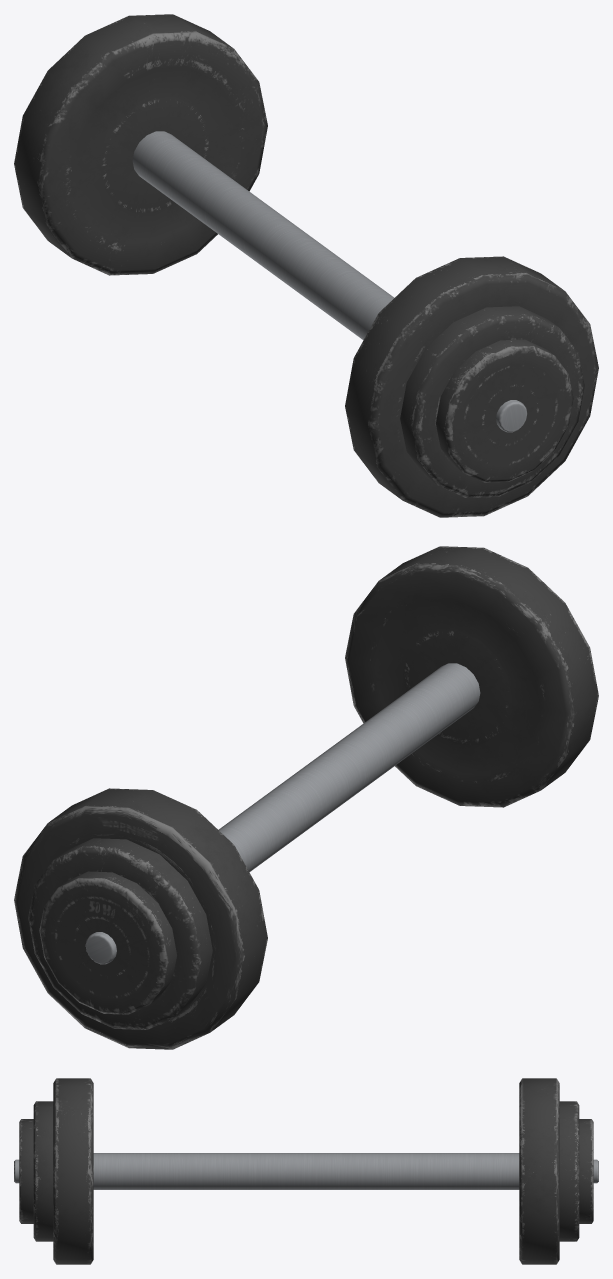
Rendered from weightlift-halter.fbx.
The picture shows the model from 3 angles, top to bottom: view 1: azimuth 30°, elevation 25°; view 2: azimuth 150°, elevation 25°; view 3: azimuth 270°, elevation 25°; orthographic projection. The views are drawn at different scales.
Visible parts, largest first — view 1: Halter_Ready; view 2: Halter_Ready; view 3: Halter_Ready.
Boxes of the visible parts, x1=… form: Halter_Ready: x1=14, y1=14, x2=598, y2=517; Halter_Ready: x1=14, y1=546, x2=598, y2=1049; Halter_Ready: x1=14, y1=1078, x2=598, y2=1264.
Bounding box in the file's own units: 137 × 137 × 428.
Materials: 1 (1 with a texture image).
